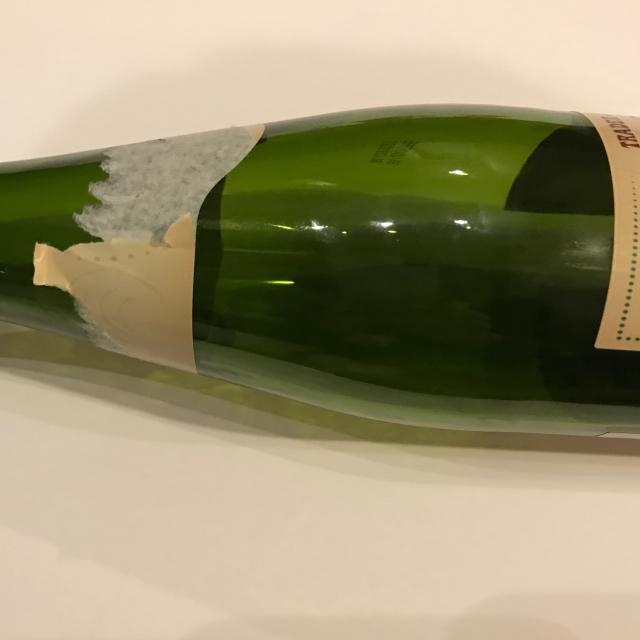glass: (1, 103, 640, 446)
